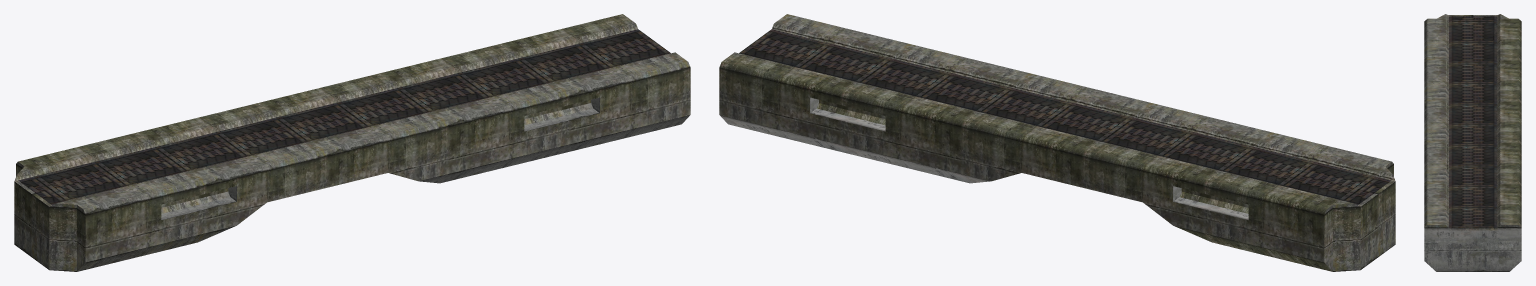
File: CoreWalkway.fbx
3 views of the same model, side by side, from view 1: azimuth 30°, elevation 25°; view 2: azimuth 150°, elevation 25°; view 3: azimuth 270°, elevation 25° (orthographic). The views are drawn at different scales.
Parts seen in each view (by area): view 1: Object; view 2: Object; view 3: Object.
Boxes of the visible parts, x1,y1,x2,y2 form: Object: [14, 14, 690, 271]; Object: [719, 14, 1395, 271]; Object: [1424, 14, 1521, 271].
Bounding box in the file's own units: 16500 × 1700 × 3200.
